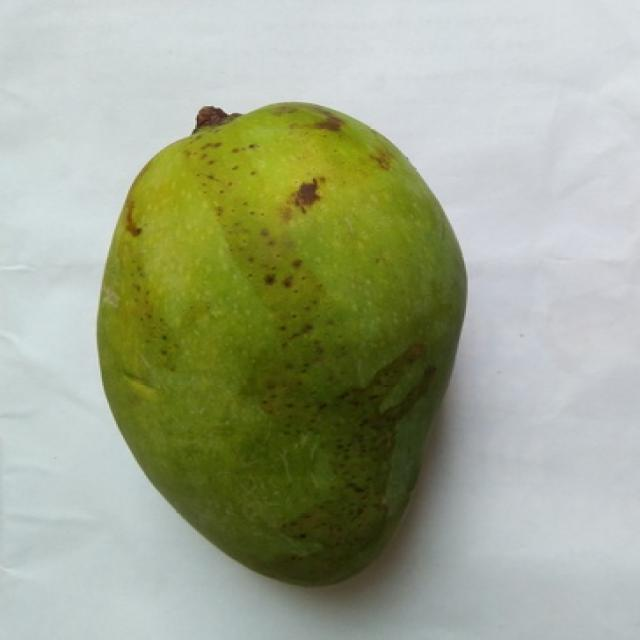Mango: (97, 103, 464, 584)
